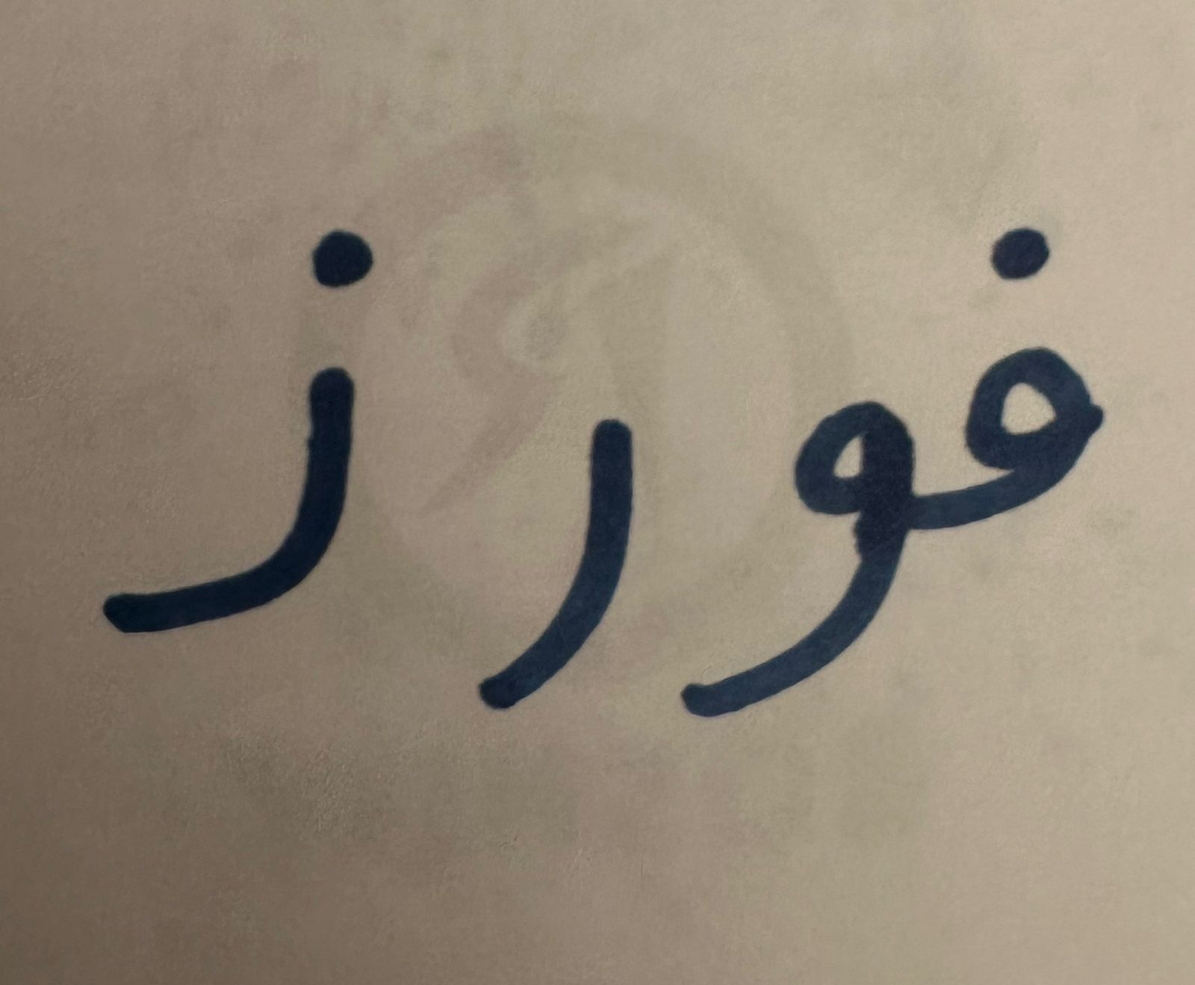ain: (42, 179, 435, 731)
feh: (945, 142, 1151, 625)
sad: (443, 319, 662, 800)
yeh: (670, 329, 941, 796)
